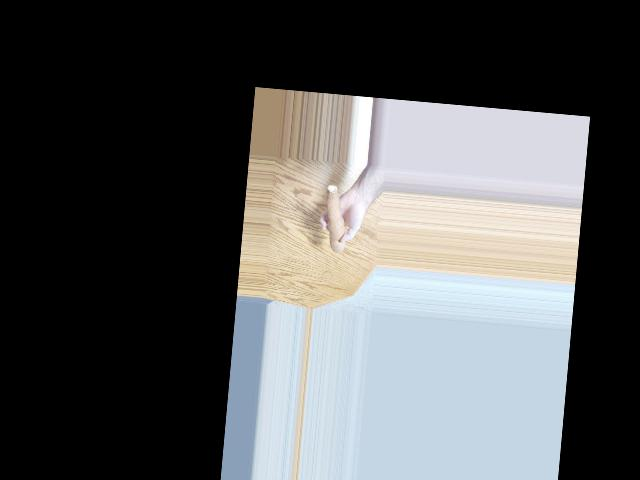sweet_potato: (320, 178, 347, 256)
